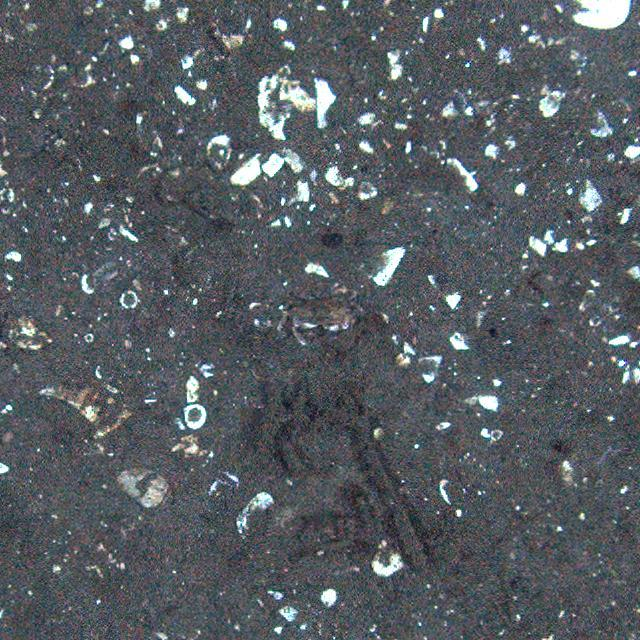crab: (275, 286, 363, 343)
